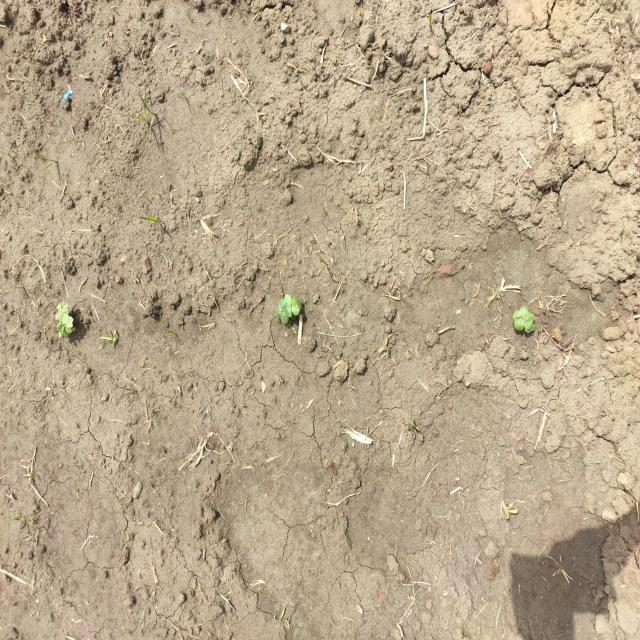seedling_s1: (520, 306, 533, 329), (278, 299, 292, 318), (275, 308, 289, 324), (513, 310, 524, 330), (59, 313, 73, 327), (58, 324, 73, 335), (292, 296, 300, 316), (284, 294, 292, 311), (56, 303, 62, 320), (62, 301, 69, 315)
